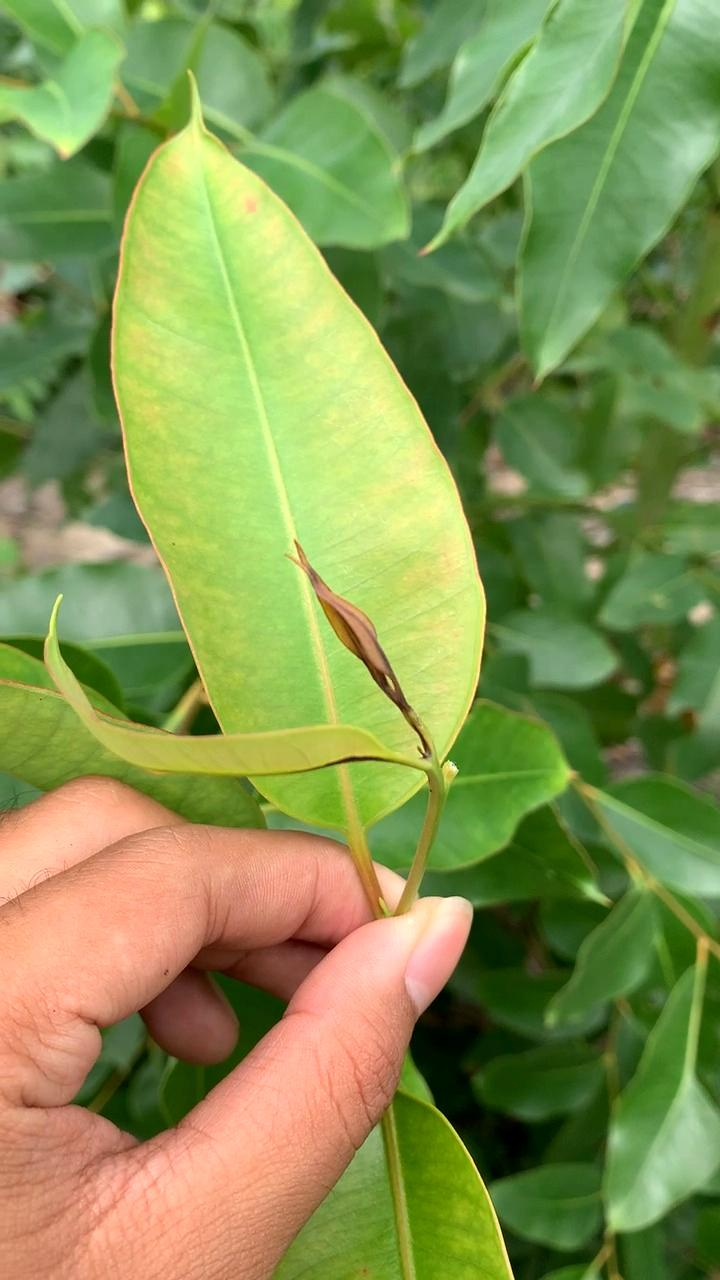Helopeltis-Withered Sprout: (288, 546, 443, 751)
